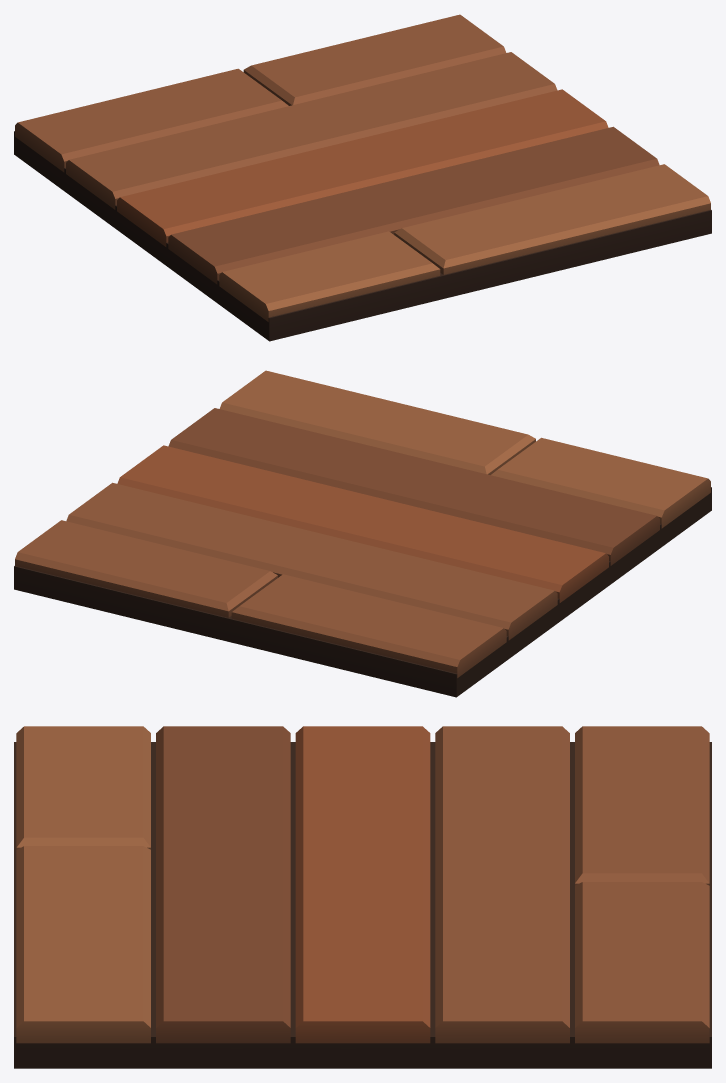
The model's file is floor_planks_small_C.glb.
3 views of the same model, one above another, from view 1: azimuth 30°, elevation 25°; view 2: azimuth 150°, elevation 25°; view 3: azimuth 270°, elevation 25° (orthographic). The views are drawn at different scales.
Visible parts, largest first — view 1: Item; view 2: Item; view 3: Item.
Part boxes in pixels (x1,y1,x2,y2): Item: (14,14,711,341); Item: (14,370,711,697); Item: (14,726,711,1068).
Bounding box in the file's own units: 2 × 0.15 × 2.
Materials: 1 (1 with a texture image).
